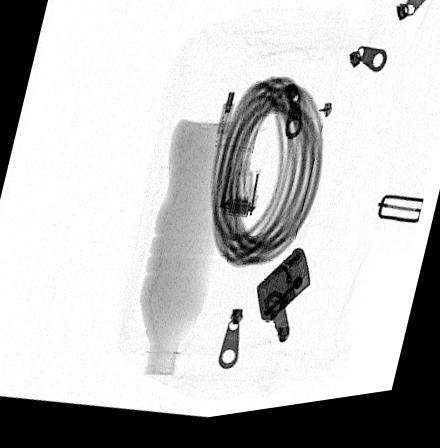Lighter: (256, 255, 310, 329)
